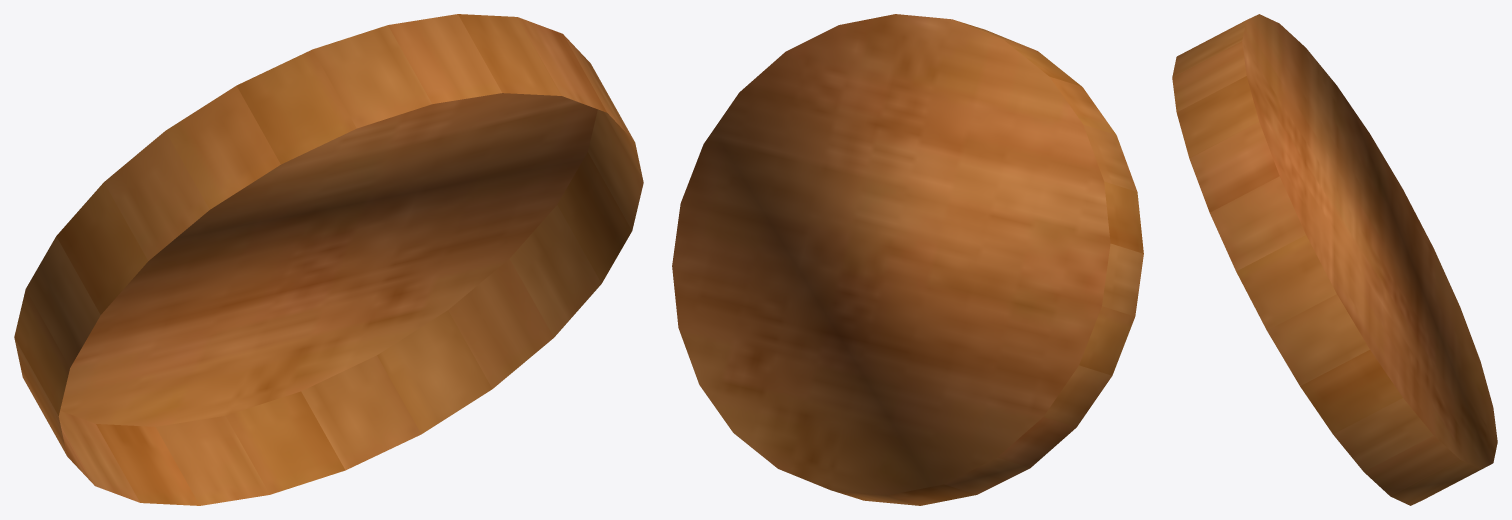
Rendered from original-94.obj.
3 renders of one model, left to right at view 1: azimuth 30°, elevation 25°; view 2: azimuth 150°, elevation 25°; view 3: azimuth 270°, elevation 25°, orthographic. The views are drawn at different scales.
Parts seen in each view (by area): view 1: mesh105/mesh105-geometry#mesh105-geometry; view 2: mesh105/mesh105-geometry#mesh105-geometry; view 3: mesh105/mesh105-geometry#mesh105-geometry.
Part boxes in pixels (left/top/right/bottom): mesh105/mesh105-geometry#mesh105-geometry: left=14, top=14, right=643, bottom=505; mesh105/mesh105-geometry#mesh105-geometry: left=672, top=14, right=1143, bottom=505; mesh105/mesh105-geometry#mesh105-geometry: left=1172, top=14, right=1497, bottom=505.
Bounding box in the file's own units: 0.0335 × 0.0317 × 0.0213.
